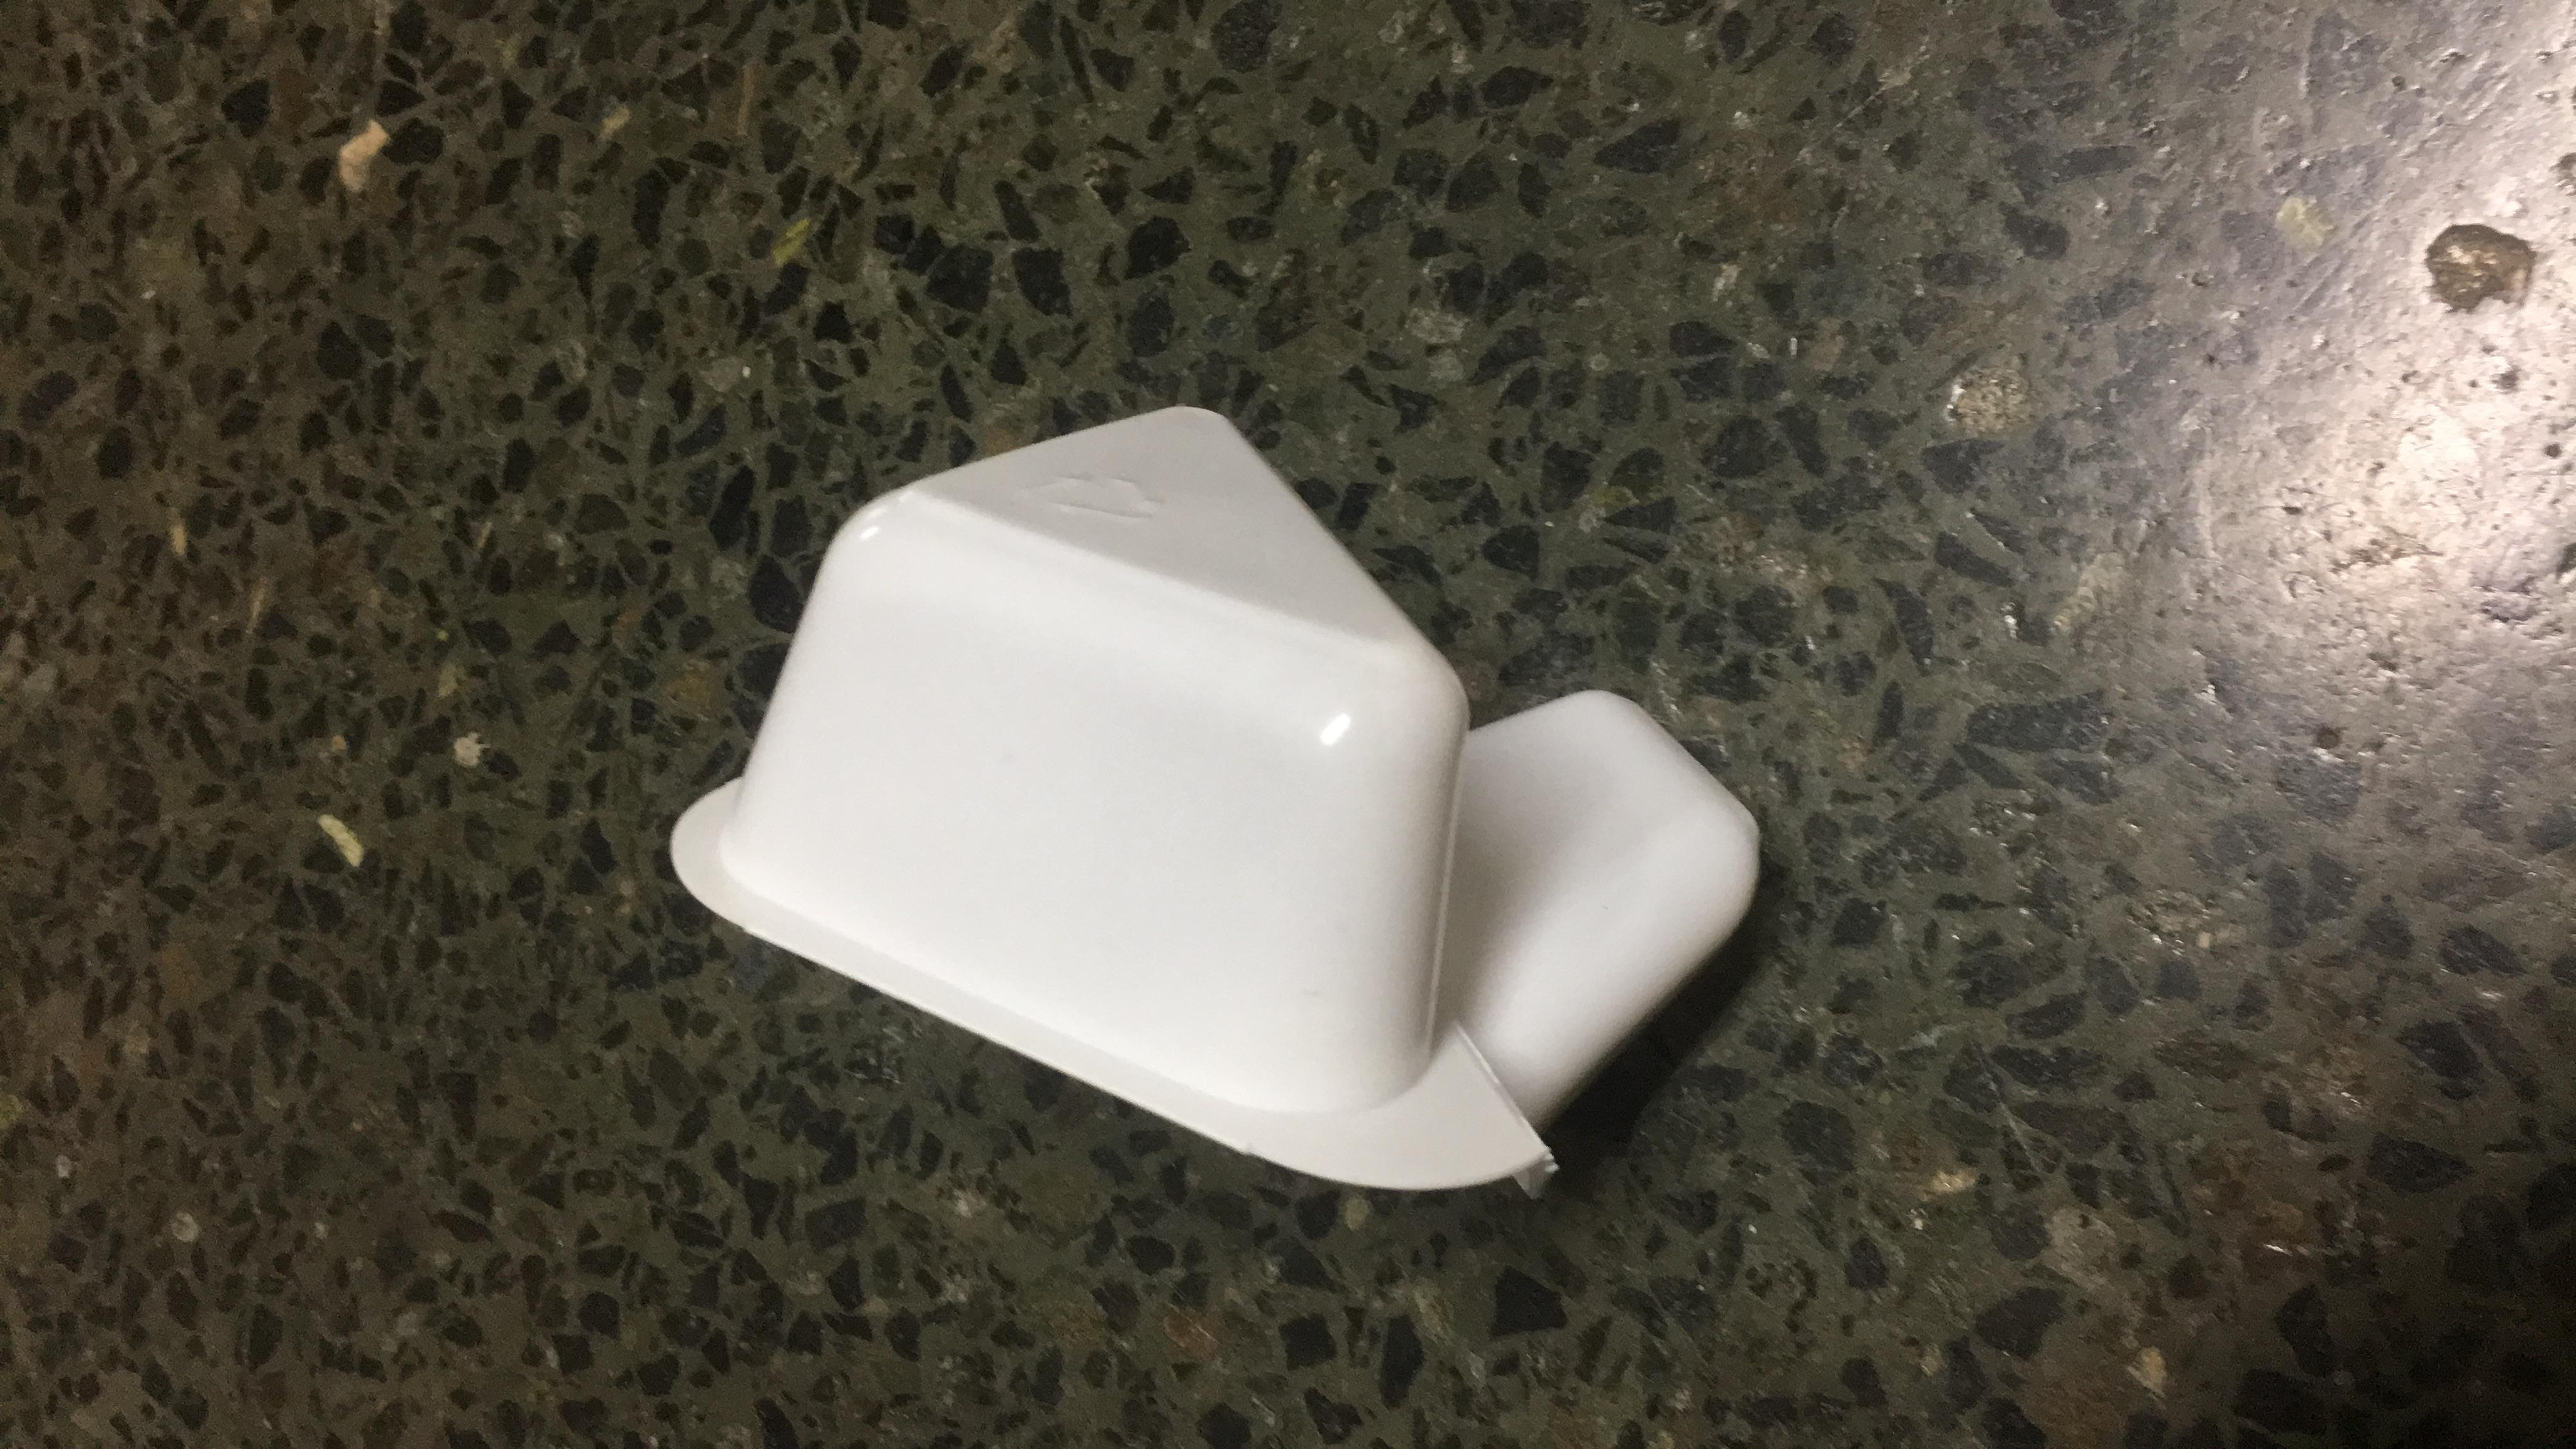bottle: (299, 354, 2029, 1007)
